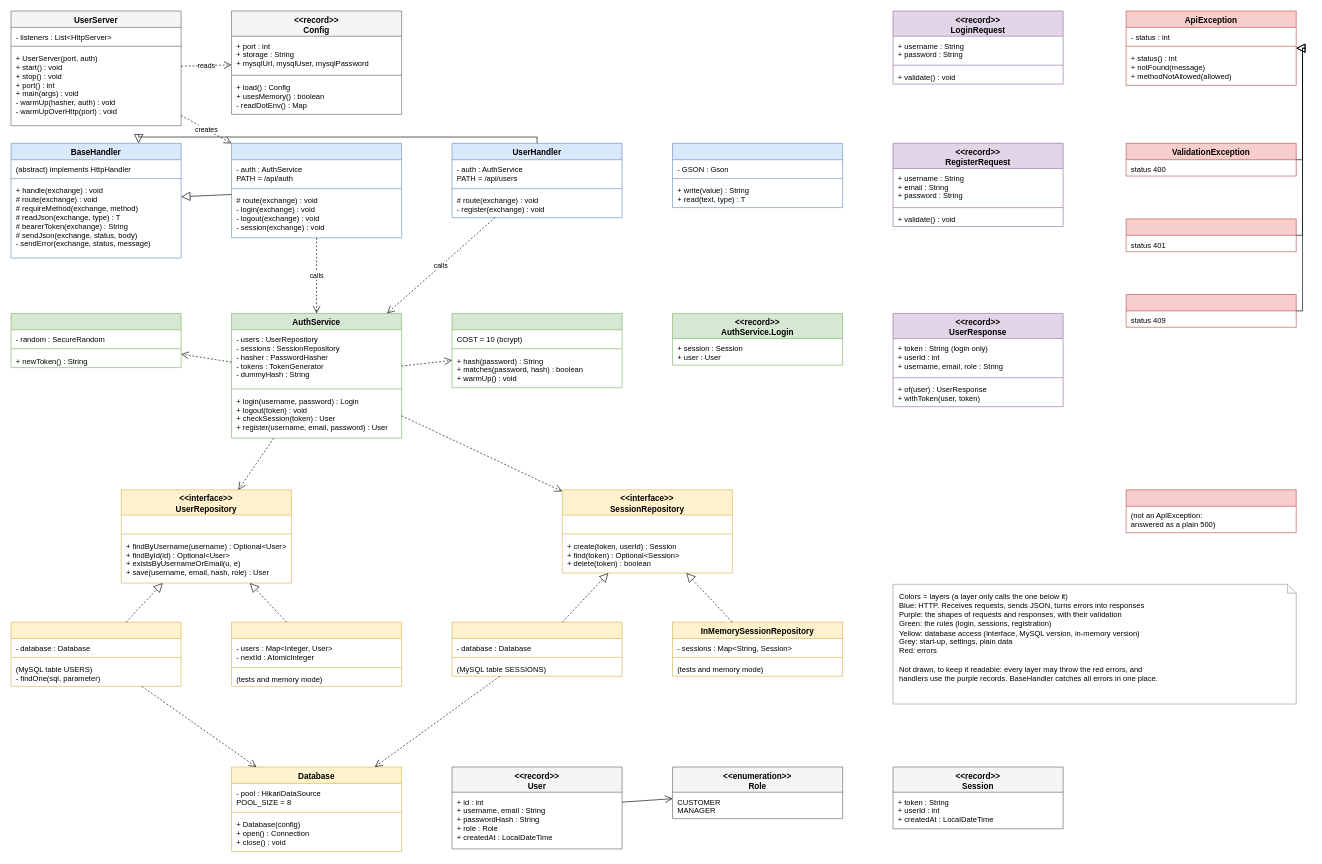
The diagram is 1322 pixels wide and 864 high, and some of its shapes have lost their labels. The shapes that lost their labels are listed below. From the top down, each one's box as (x1, y1, x2, y2) in pixels, then its label:
(231, 143, 402, 238): AuthHandler
(672, 143, 843, 208): Json
(1125, 218, 1296, 252): UnauthorizedException
(1125, 294, 1296, 327): ConflictException
(10, 313, 181, 368): TokenGenerator
(451, 313, 622, 388): PasswordHasher
(1125, 489, 1296, 533): DataAccessException
(10, 621, 181, 686): JdbcUserRepository
(231, 621, 402, 686): InMemoryUserRepository
(451, 621, 622, 676): JdbcSessionRepository
